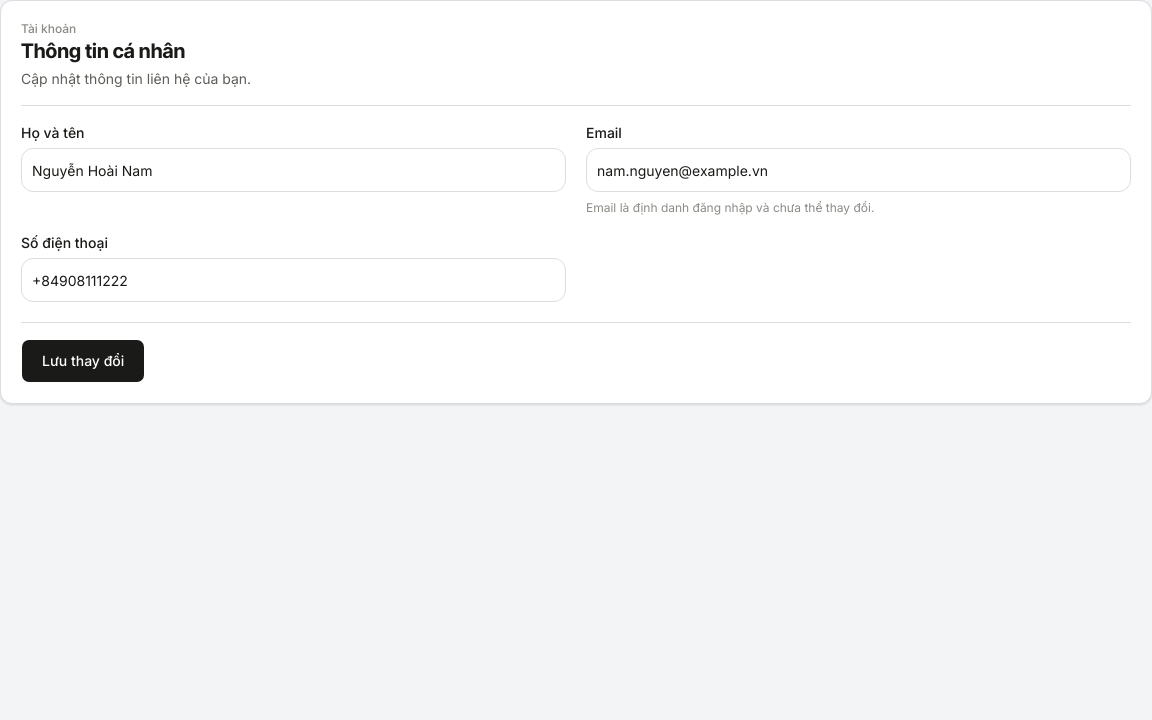
CustomerProfileForm › shows an actionable conflict without retrying or overwriting the form
Replace the text in the field showing "Nguyễn Hoài Nam" with "Bản nháp cục bộ" at (294, 170), box [21, 148, 566, 192]
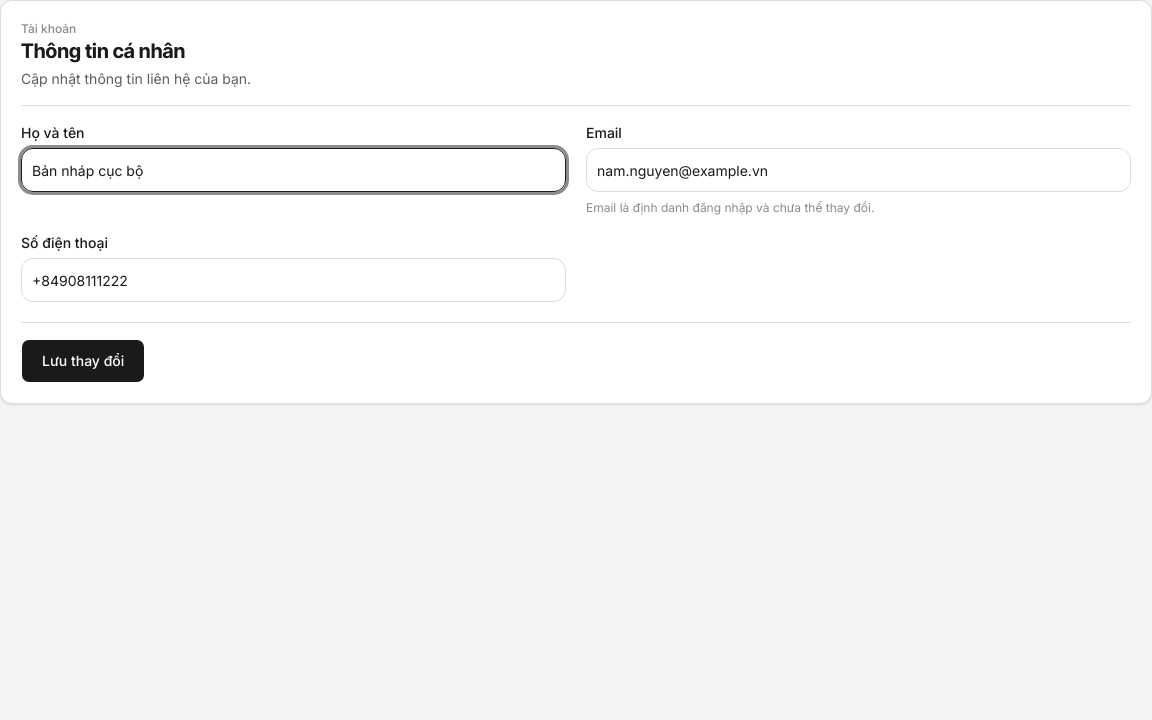
Click the button "Lưu thay đổi" at (83, 361), box [21, 339, 145, 383]
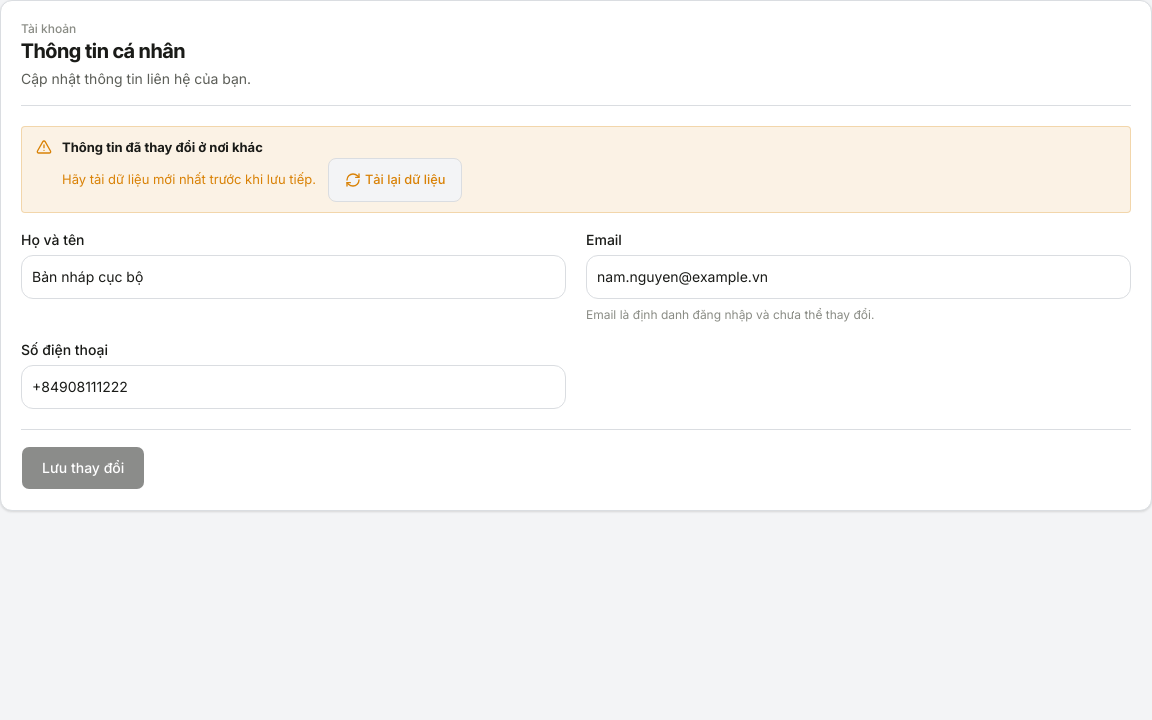
expect the text "Thông tin đã thay đổi ở nơi khác" is shown: met, box [62, 139, 263, 155]
